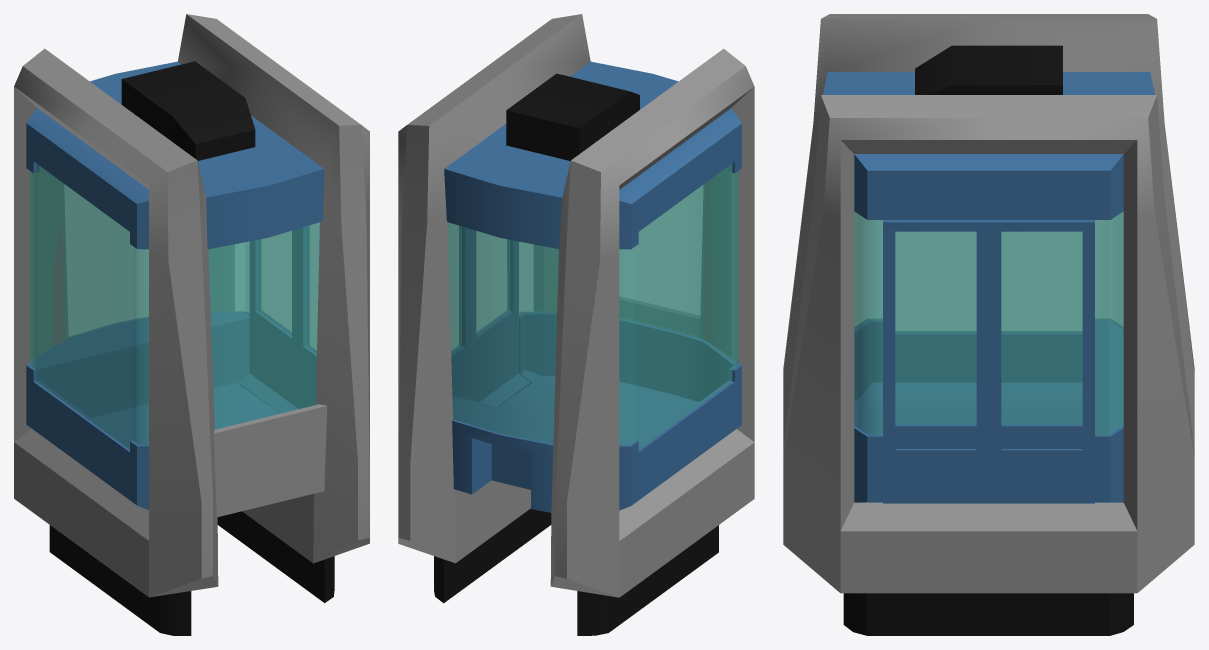
The model's file is MonoRail_Open.fbx.
The picture shows the model from 3 angles, left to right: view 1: azimuth 30°, elevation 25°; view 2: azimuth 150°, elevation 25°; view 3: azimuth 270°, elevation 25°; orthographic projection. The views are drawn at different scales.
Parts seen in each view (by area): view 1: MonoRail_body_Low, door_Low; view 2: MonoRail_body_Low, door_Low; view 3: MonoRail_body_Low, door_Low.
Part boxes in pixels (left/top/right/bottom): MonoRail_body_Low: left=14, top=14, right=369, bottom=635; door_Low: left=296, top=223, right=319, bottom=409; MonoRail_body_Low: left=398, top=14, right=754, bottom=635; door_Low: left=471, top=229, right=530, bottom=406; MonoRail_body_Low: left=783, top=14, right=1194, bottom=635; door_Low: left=883, top=220, right=988, bottom=503.
Bounding box in the file's own units: 215 × 448 × 314.
